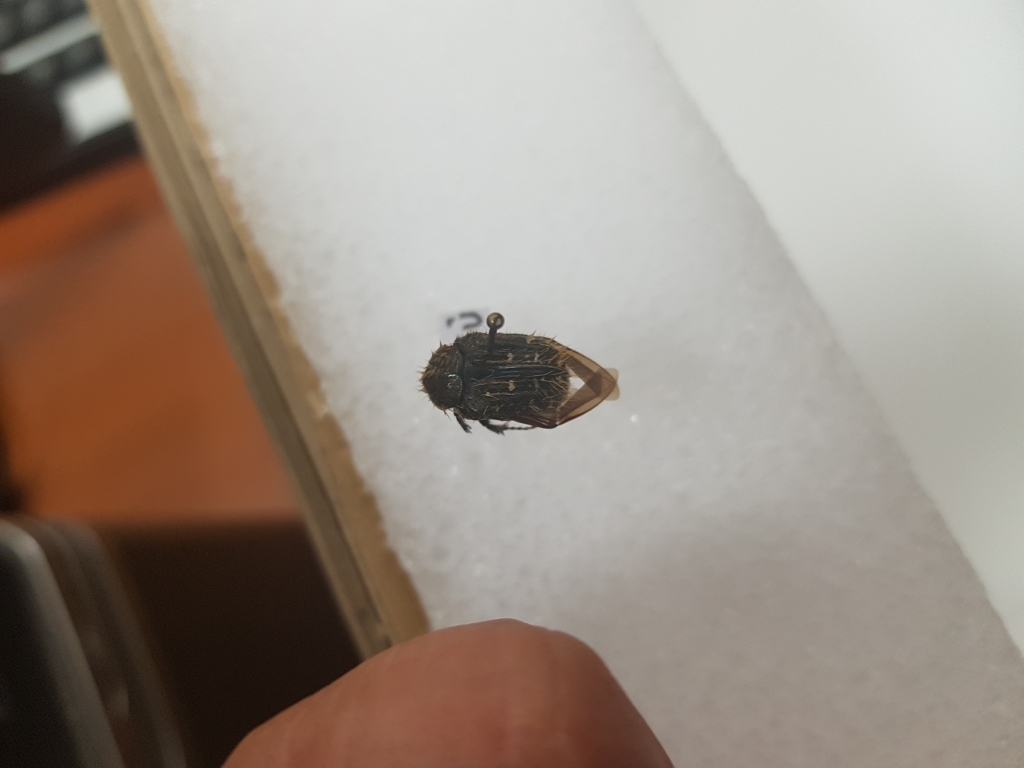Tropinota_hirta: (417, 319, 648, 438)
